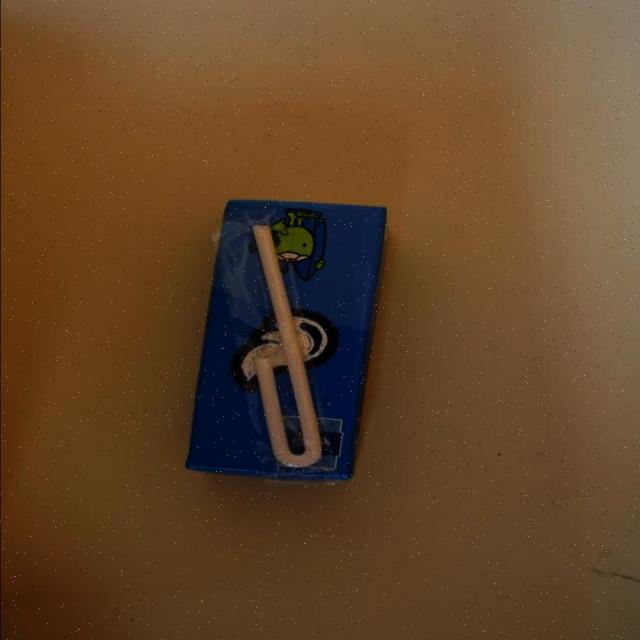CoconutWater: (182, 198, 386, 483)
